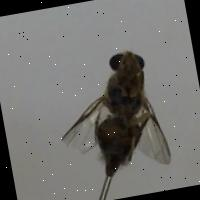Oriental-fruit-fly: (49, 43, 178, 188)
